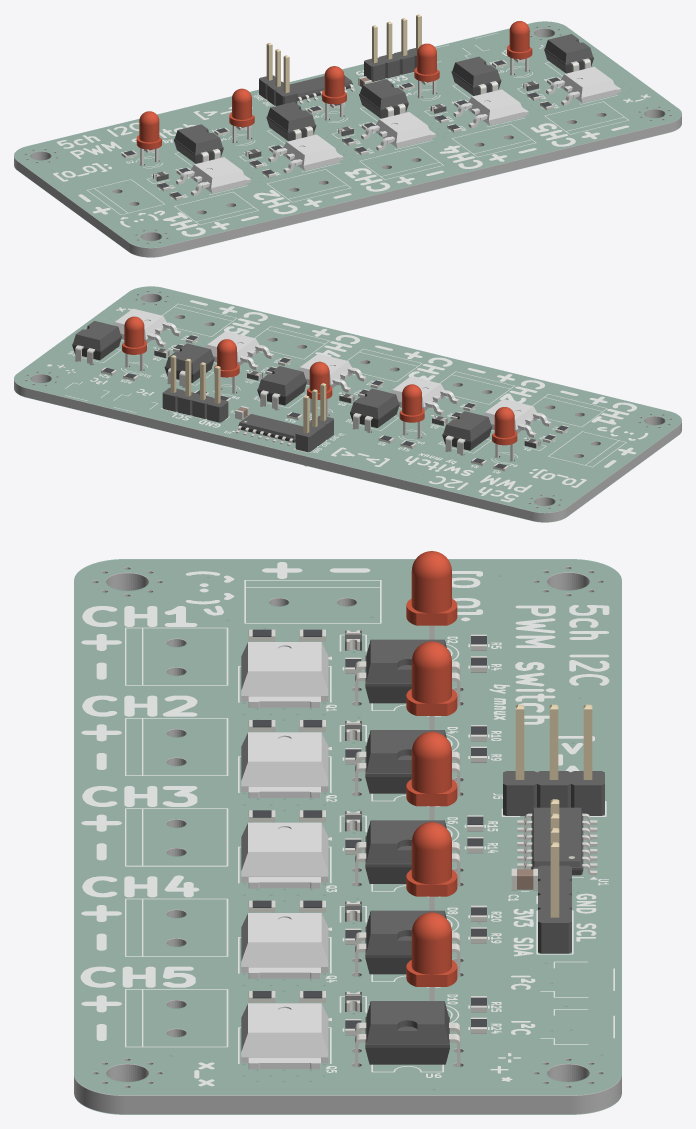
Rendered from iot-mos.glb.
3 renders of one model, top to bottom at view 1: azimuth 30°, elevation 25°; view 2: azimuth 150°, elevation 25°; view 3: azimuth 270°, elevation 25°, orthographic. The views are drawn at different scales.
Visible parts, largest first — view 1: Node2, Node3, Node12, Node4, Node1, Node11, Node5, Node13, Node7, Node9, Node8; view 2: Node2, Node3, Node12, Node1, Node4, Node11, Node5, Node13, Node7, Node9; view 3: Node2, Node3, Node4, Node12, Node1, Node11, Node5, Node7, Node9, Node13, Node8.
Part boxes in pixels (x1=…): Node2: x1=14, y1=21, x2=681, y2=257; Node3: x1=14, y1=22, x2=681, y2=257; Node12: x1=153, y1=34, x2=593, y2=181; Node4: x1=176, y1=66, x2=621, y2=195; Node1: x1=53, y1=45, x2=650, y2=236; Node11: x1=136, y1=21, x2=532, y2=149; Node5: x1=121, y1=57, x2=590, y2=200; Node13: x1=266, y1=14, x2=421, y2=92; Node7: x1=56, y1=33, x2=506, y2=158; Node9: x1=124, y1=59, x2=560, y2=197; Node8: x1=126, y1=58, x2=552, y2=199; Node2: x1=14, y1=286, x2=681, y2=522; Node3: x1=14, y1=287, x2=681, y2=522; Node12: x1=72, y1=321, x2=540, y2=452; Node1: x1=47, y1=300, x2=648, y2=489; Node4: x1=113, y1=308, x2=551, y2=437; Node11: x1=122, y1=316, x2=517, y2=445; Node5: x1=75, y1=334, x2=568, y2=471; Node13: x1=170, y1=355, x2=326, y2=466; Node7: x1=65, y1=381, x2=532, y2=502; Node9: x1=103, y1=335, x2=568, y2=468; Node2: x1=74, y1=559, x2=621, y2=1114; Node3: x1=74, y1=560, x2=621, y2=1114; Node4: x1=241, y1=642, x2=328, y2=1069; Node12: x1=345, y1=630, x2=604, y2=1064; Node1: x1=80, y1=562, x2=555, y2=1086; Node11: x1=406, y1=551, x2=457, y2=986; Node5: x1=248, y1=625, x2=597, y2=1066; Node7: x1=515, y1=605, x2=614, y2=1044; Node9: x1=252, y1=629, x2=486, y2=1028; Node13: x1=515, y1=704, x2=592, y2=917; Node8: x1=249, y1=637, x2=325, y2=1002.
Bounding box in the file's own units: 95 × 11.84 × 41.
